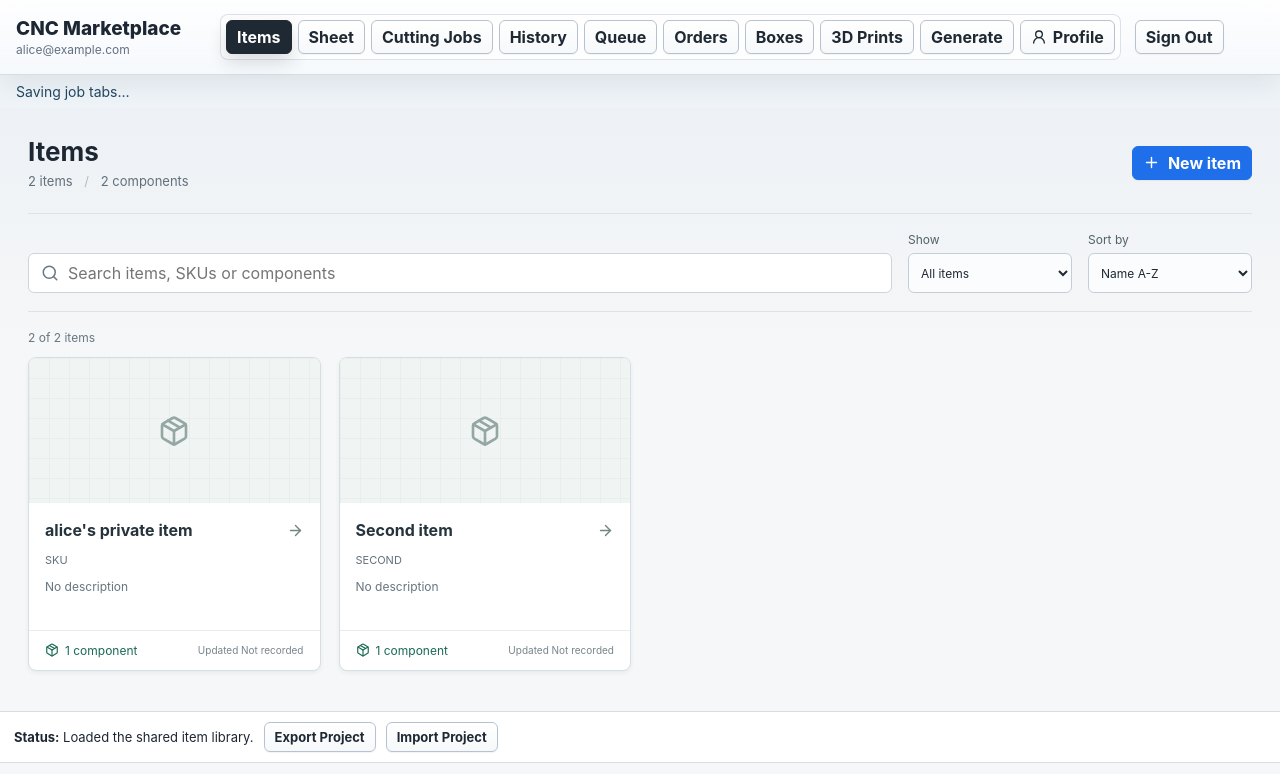
account switching › loads existing sheet obstacles before adding all components of another item
Click the button with aria-label "Open alice's private item" at (174, 431), box [28,357,320,671]
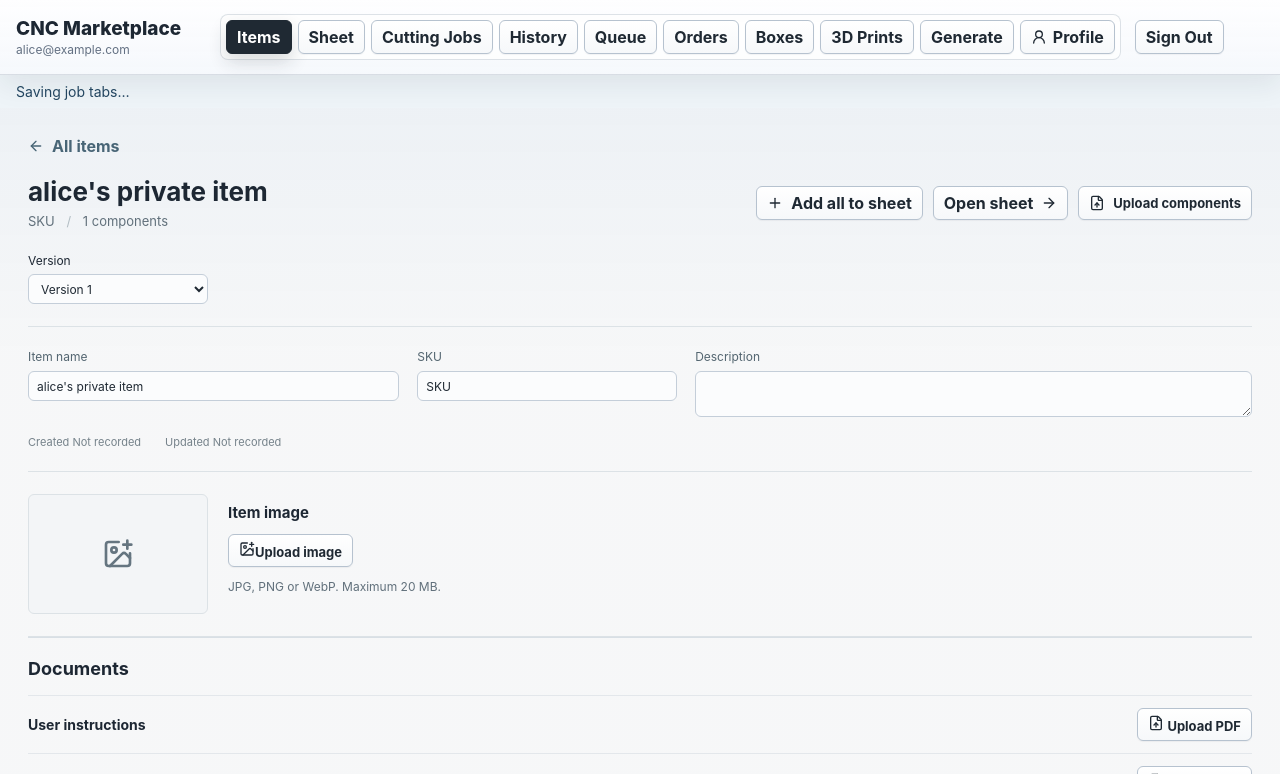
Click the button "Add all to sheet" at (840, 202), box [756,186,923,220]
(page scrolled)
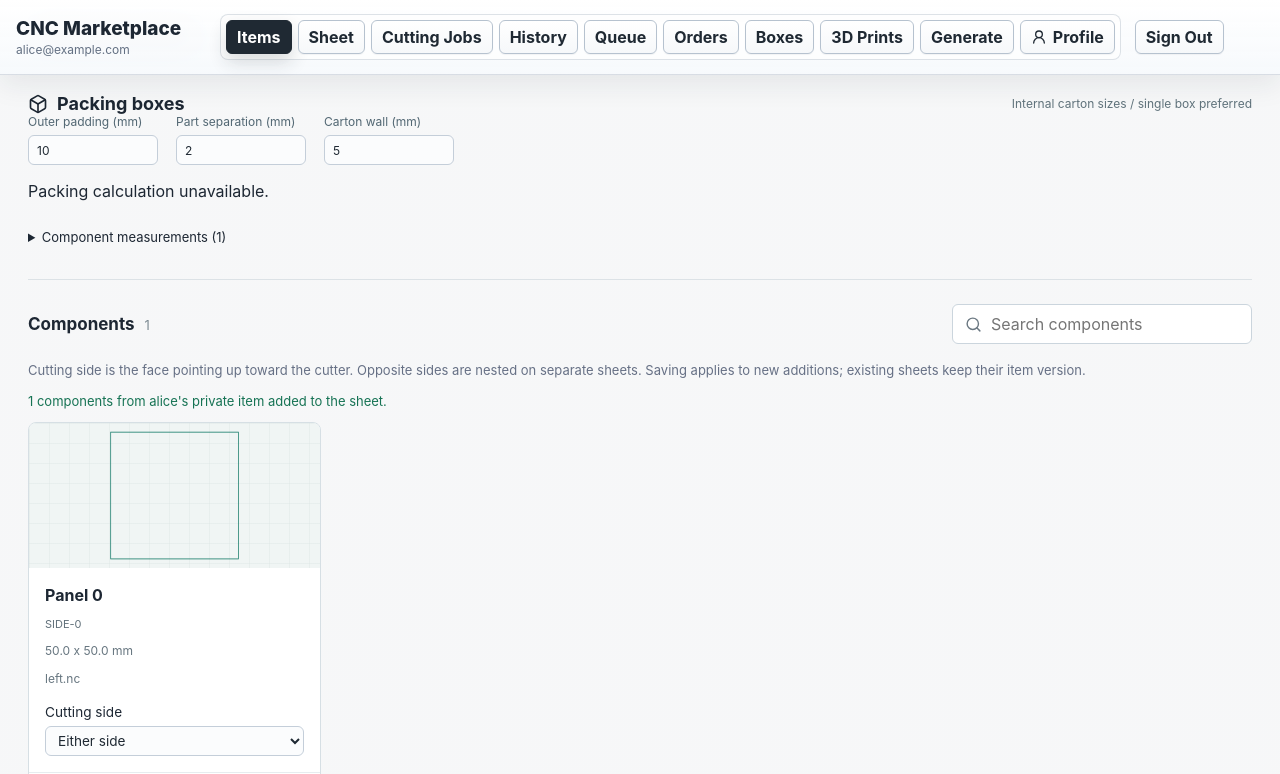
expect the text "1 components from alice's private item added to the sheet." is shown: met, box [28,392,387,408]
